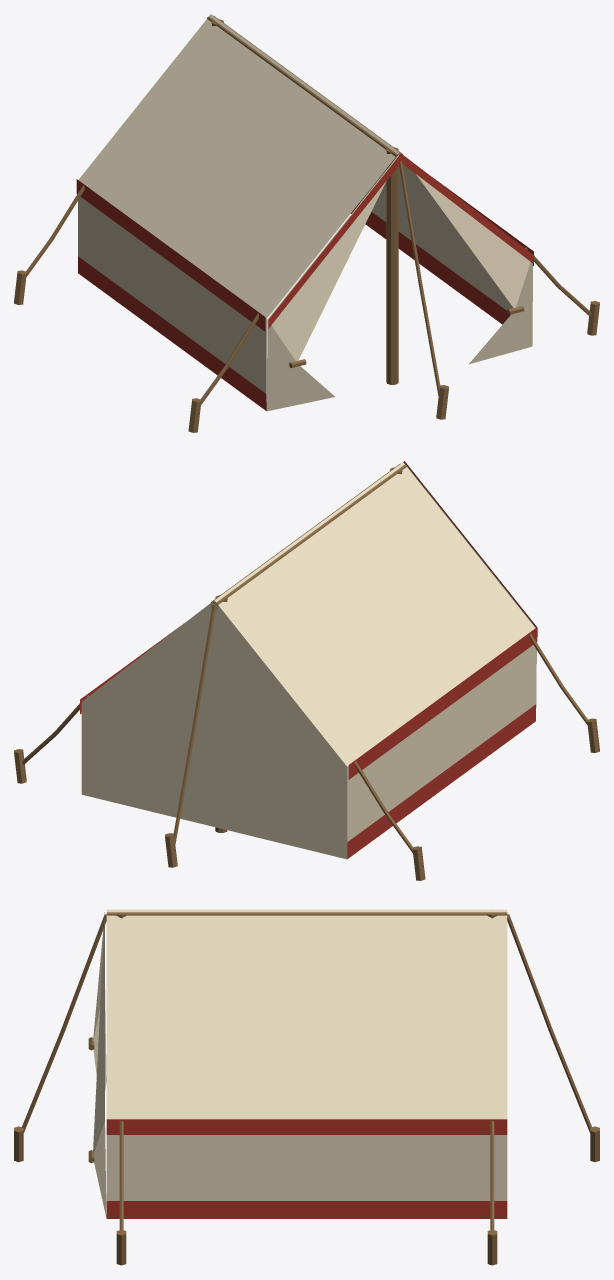
File: tent_small.glb
The picture shows the model from 3 angles, top to bottom: view 1: azimuth 30°, elevation 25°; view 2: azimuth 150°, elevation 25°; view 3: azimuth 270°, elevation 25°; orthographic projection. The views are drawn at different scales.
Visible parts, largest first — view 1: tent_small; view 2: tent_small; view 3: tent_small.
Boxes of the visible parts, <box> form: tent_small: <box>14,14,599,432</box>; tent_small: <box>14,461,599,880</box>; tent_small: <box>14,909,599,1265</box>.
Bounding box in the file's own units: 4.02 × 2.21 × 4.68.
